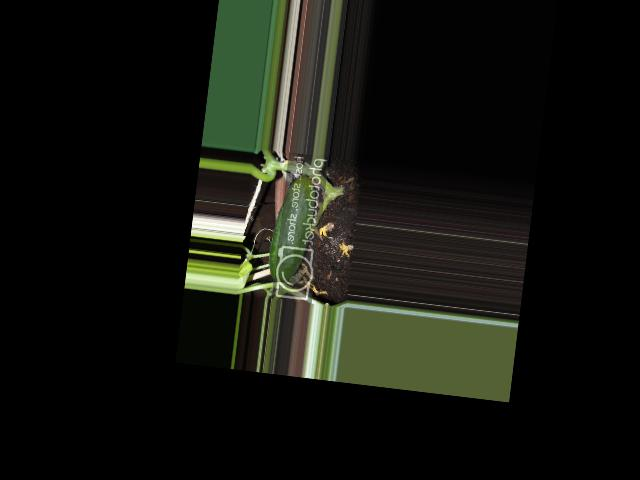cucumber: (266, 174, 318, 284)
